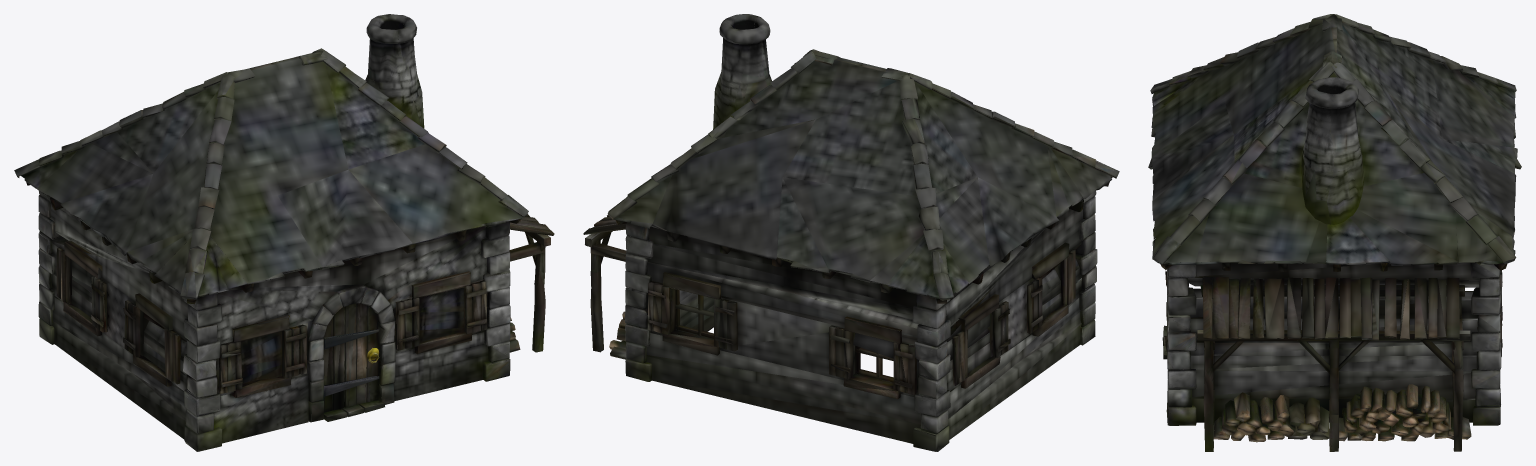
The model's file is cottage_2.glb.
3 renders of one model, left to right at view 1: azimuth 30°, elevation 25°; view 2: azimuth 150°, elevation 25°; view 3: azimuth 270°, elevation 25°, orthographic. The views are drawn at different scales.
Visible parts, largest first — view 1: cottage_2_p2; view 2: cottage_2_p2; view 3: cottage_2_p2.
Part boxes in pixels (bbox=[...]): cottage_2_p2: bbox=[14, 14, 554, 451]; cottage_2_p2: bbox=[583, 14, 1119, 451]; cottage_2_p2: bbox=[1148, 14, 1521, 451].
Size of the model in its own units: 4.8 by 3.54 by 3.75.
Materials: 1 (1 with a texture image).
